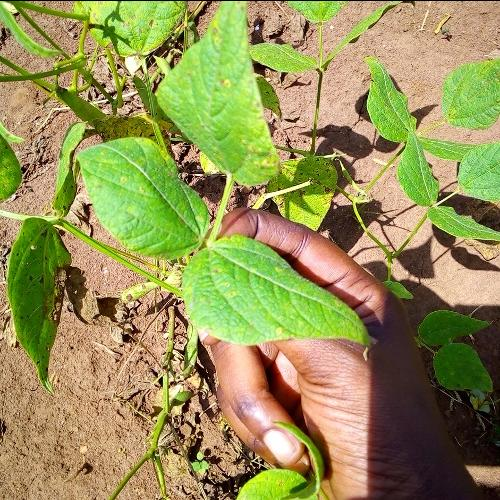sehat: (176, 46, 268, 176), (199, 250, 295, 335), (102, 150, 182, 249)
